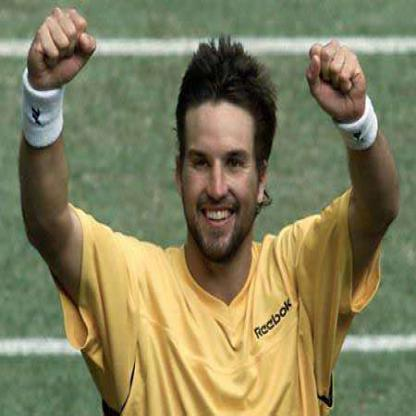face: (180, 71, 260, 266)
